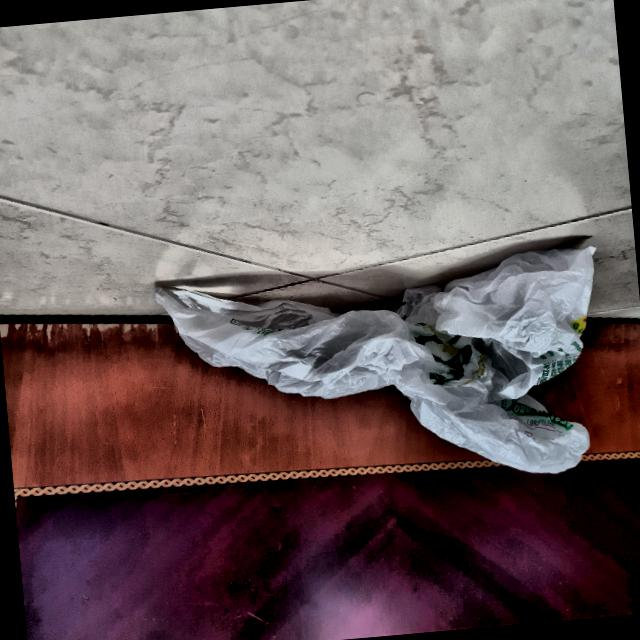plastic bag: (152, 232, 618, 514)
